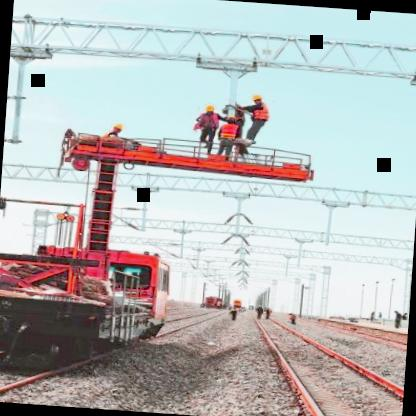helmet: (110, 120, 128, 136), (250, 92, 268, 108), (204, 103, 218, 117)
